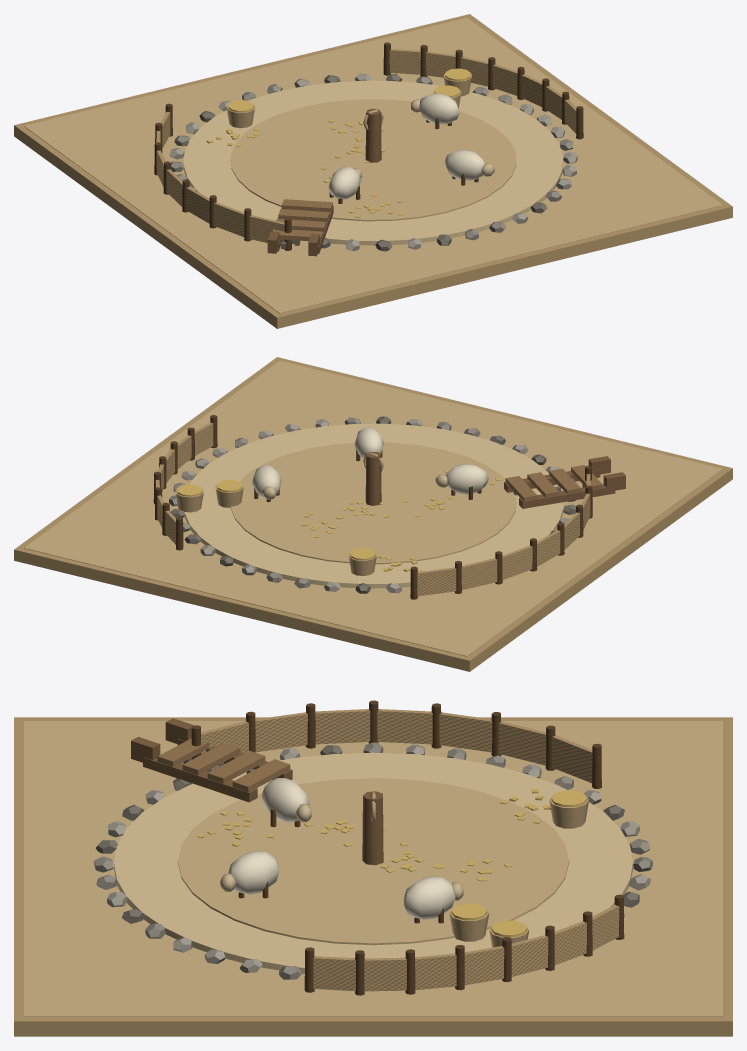
File: rad-2-built.glb
The picture shows the model from 3 angles, top to bottom: view 1: azimuth 30°, elevation 25°; view 2: azimuth 150°, elevation 25°; view 3: azimuth 270°, elevation 25°; orthographic projection. The views are drawn at different scales.
Size of the model in its own units: 18 by 2.51 by 18.
15 materials, 2 textured.
